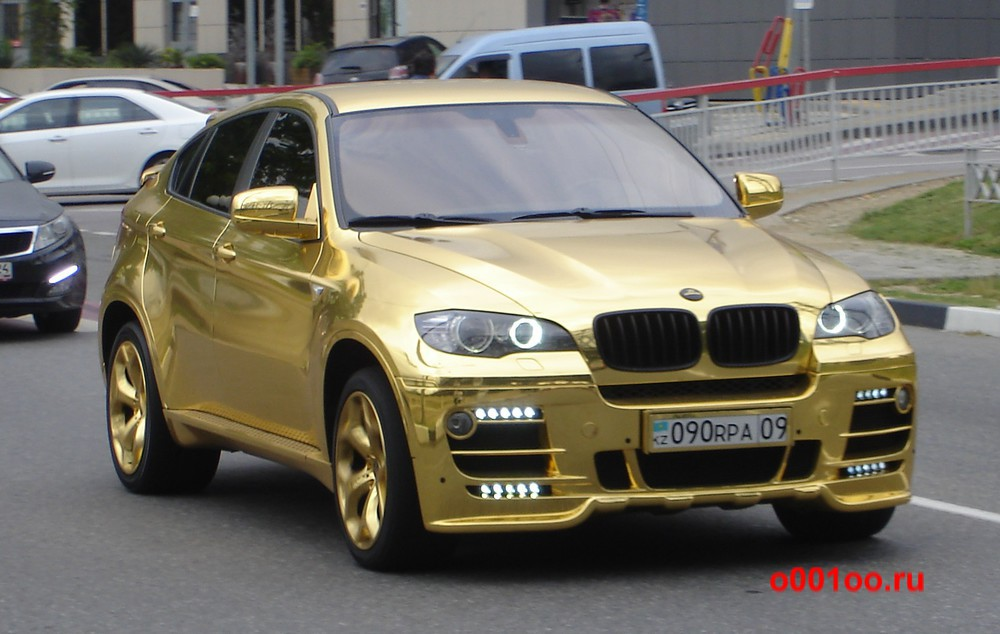license_plate: (648, 417, 790, 445)
